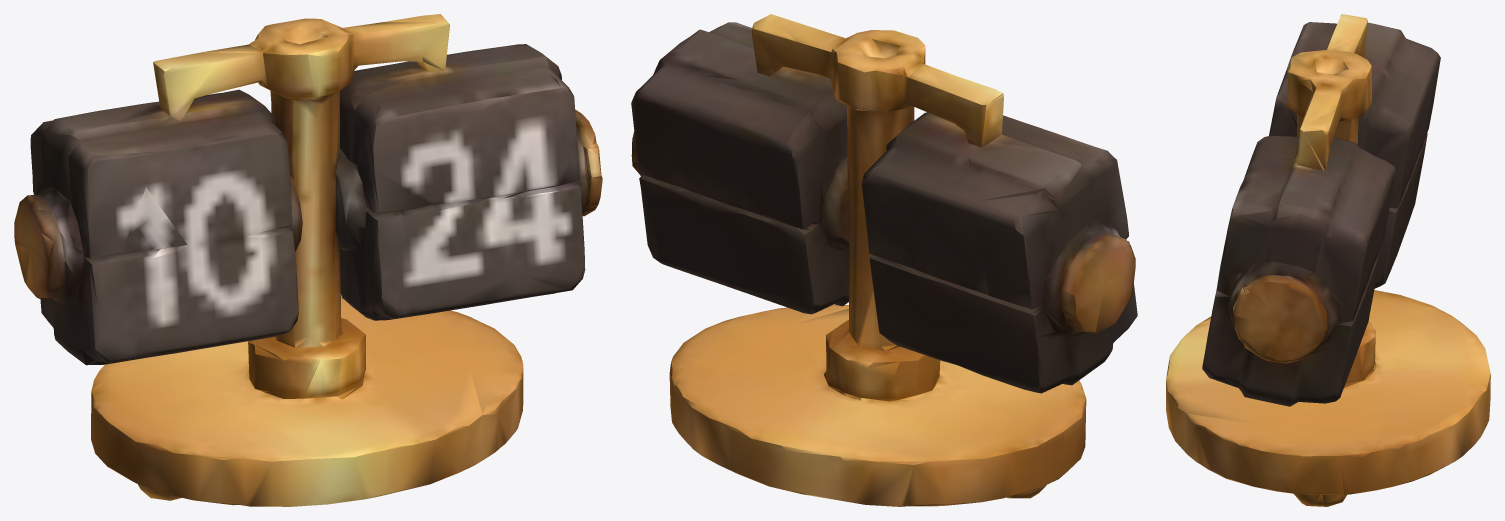
File: deco31.glb
3 views of the same model, side by side, from view 1: azimuth 30°, elevation 25°; view 2: azimuth 150°, elevation 25°; view 3: azimuth 270°, elevation 25° (orthographic). The views are drawn at different scales.
Size of the model in its own units: 0.2005 by 0.1565 by 0.1226.
1 material, 1 textured.
